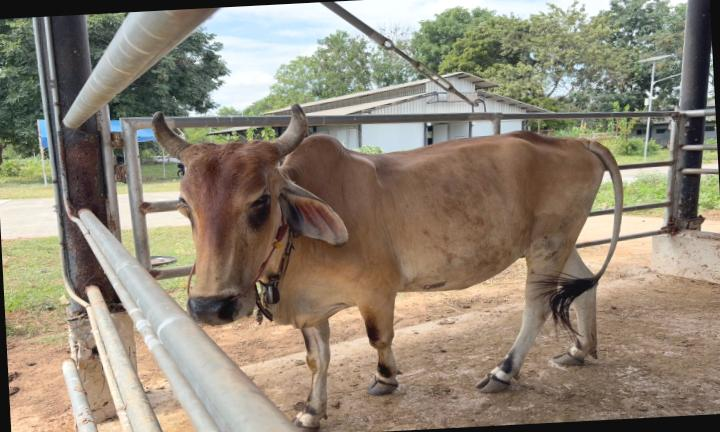Brahman: (152, 104, 621, 432)
